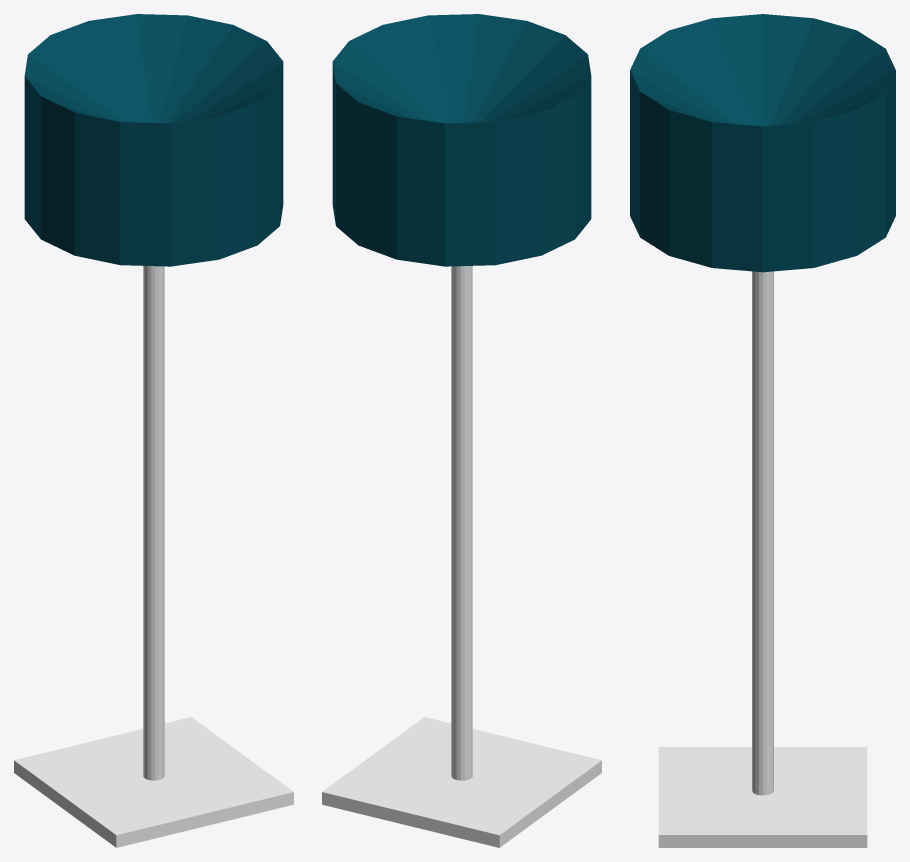
The model's file is Accesories_Standing_Lamp.glb.
The picture shows the model from 3 angles, left to right: view 1: azimuth 30°, elevation 25°; view 2: azimuth 150°, elevation 25°; view 3: azimuth 270°, elevation 25°; orthographic projection.
Parts seen in each view (by area): view 1: Accesories_Standing_Lamp; view 2: Accesories_Standing_Lamp; view 3: Accesories_Standing_Lamp.
Boxes of the visible parts, x1,y1,x2,y2 form: Accesories_Standing_Lamp: [14, 14, 293, 847]; Accesories_Standing_Lamp: [322, 14, 601, 847]; Accesories_Standing_Lamp: [630, 14, 895, 847].
Size of the model in its own units: 0.5 by 1.52 by 0.5.
1 material, 1 textured.
